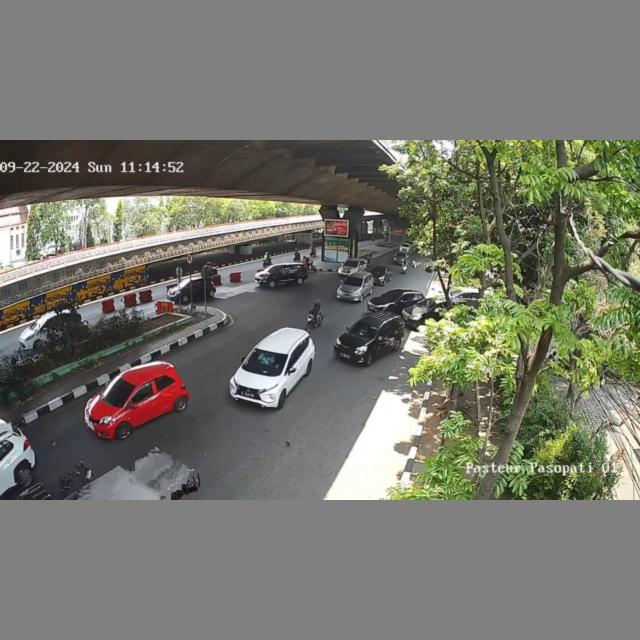windshield: (244, 346, 288, 374), (102, 377, 133, 404), (348, 319, 379, 341), (341, 276, 365, 286)
